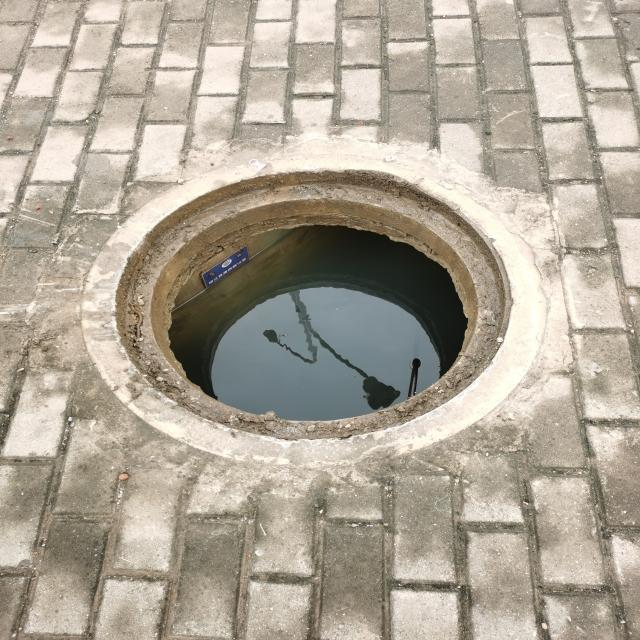Faulty: (78, 154, 546, 464)
